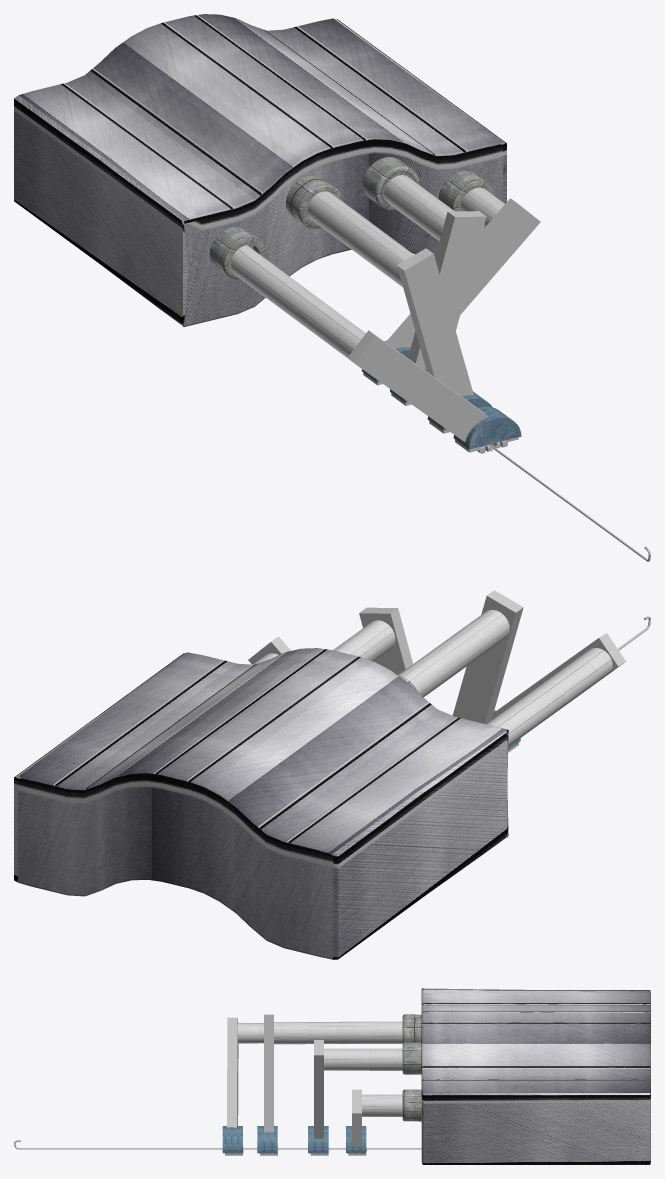
The model's file is robot.obj.
The picture shows the model from 3 angles, top to bottom: view 1: azimuth 30°, elevation 25°; view 2: azimuth 150°, elevation 25°; view 3: azimuth 270°, elevation 25°; orthographic projection. The views are drawn at different scales.
Parts seen in each view (by area): view 1: Base_Cube.000, Rings_Cube.003, Arm2_Block_Cube.012, Arm1_Block_Cube.009, Arm1_Cylinder.000, Arm4_Block_Cube.014, Arm3_Block_Cube.013, Arm2_Cylinder.054, Arm3_Cylinder.055, Arm1_RotationController_Cylinder.058, Arm4_Cylinder.056; view 2: Base_Cube.000, Arm1_Cylinder.000, Arm2_Block_Cube.012, Arm2_Cylinder.054, Arm3_Block_Cube.013, Arm3_Cylinder.055, Arm1_Block_Cube.009; view 3: Base_Cube.000, Arm2_Cylinder.054, Rings_Cube.003, Arm3_Cylinder.055, Arm1_Block_Cube.009, Arm2_Block_Cube.012, Arm3_Block_Cube.013, Arm4_Cylinder.056, Wire_Cylinder, Arm4_Block_Cube.014, Arm1_RotationController_Cylinder.058, Arm1_Cylinder.000 (+3 smaller).
Part boxes in pixels (x1,y1,x2,y2): Base_Cube.000: [14, 14, 506, 326]; Rings_Cube.003: [209, 157, 495, 280]; Arm2_Block_Cube.012: [397, 248, 473, 396]; Arm1_Block_Cube.009: [348, 330, 488, 442]; Arm1_Cylinder.000: [182, 219, 365, 361]; Arm4_Block_Cube.014: [386, 198, 540, 348]; Arm3_Block_Cube.013: [408, 211, 486, 369]; Arm2_Cylinder.054: [307, 191, 413, 287]; Arm3_Cylinder.055: [384, 175, 454, 240]; Arm1_RotationController_Cylinder.058: [453, 406, 521, 449]; Arm4_Cylinder.056: [460, 187, 504, 228]; Base_Cube.000: [14, 648, 508, 959]; Arm1_Cylinder.000: [487, 648, 615, 746]; Arm2_Block_Cube.012: [452, 590, 523, 724]; Arm2_Cylinder.054: [398, 610, 509, 697]; Arm3_Block_Cube.013: [359, 607, 412, 675]; Arm3_Cylinder.055: [333, 620, 395, 661]; Arm1_Block_Cube.009: [491, 633, 625, 720]; Base_Cube.000: [421, 988, 650, 1164]; Arm2_Cylinder.054: [274, 1021, 402, 1044]; Rings_Cube.003: [402, 1014, 421, 1121]; Arm3_Cylinder.055: [324, 1048, 402, 1070]; Arm1_Block_Cube.009: [226, 1017, 238, 1127]; Arm2_Block_Cube.012: [264, 1014, 273, 1132]; Arm3_Block_Cube.013: [314, 1040, 323, 1138]; Arm4_Cylinder.056: [362, 1094, 402, 1116]; Wire_Cylinder: [14, 1140, 421, 1149]; Arm4_Block_Cube.014: [352, 1089, 361, 1146]; Arm1_RotationController_Cylinder.058: [222, 1126, 242, 1153]; Arm1_Cylinder.000: [237, 1023, 263, 1043].
Size of the model in its own units: 3.77 by 2.21 by 9.57.
Materials: 6 (5 with a texture image).
